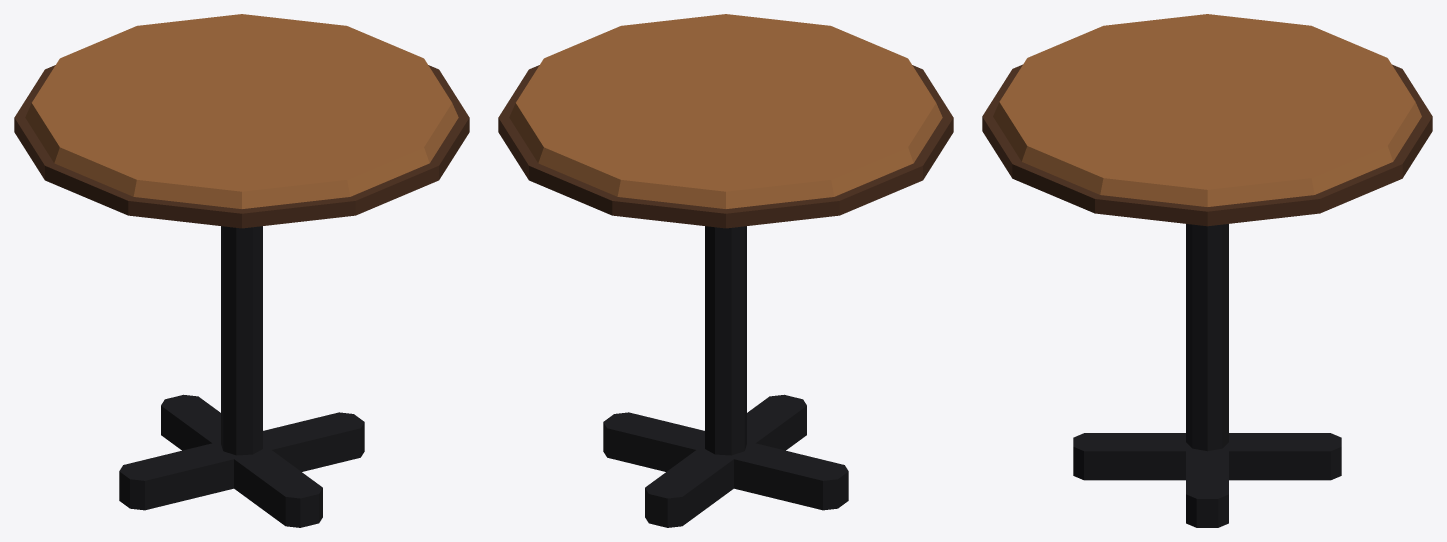
The model's file is table_round.obj.
3 renders of one model, left to right at view 1: azimuth 30°, elevation 25°; view 2: azimuth 150°, elevation 25°; view 3: azimuth 270°, elevation 25°, orthographic.
Parts seen in each view (by area): view 1: table_round; view 2: table_round; view 3: table_round.
Boxes of the visible parts, box(x1,y1,x2,y2) form: table_round: box(14, 14, 469, 527); table_round: box(498, 14, 953, 527); table_round: box(982, 14, 1432, 527).
Bounding box in the file's own units: 0.84 × 0.76 × 0.84.
